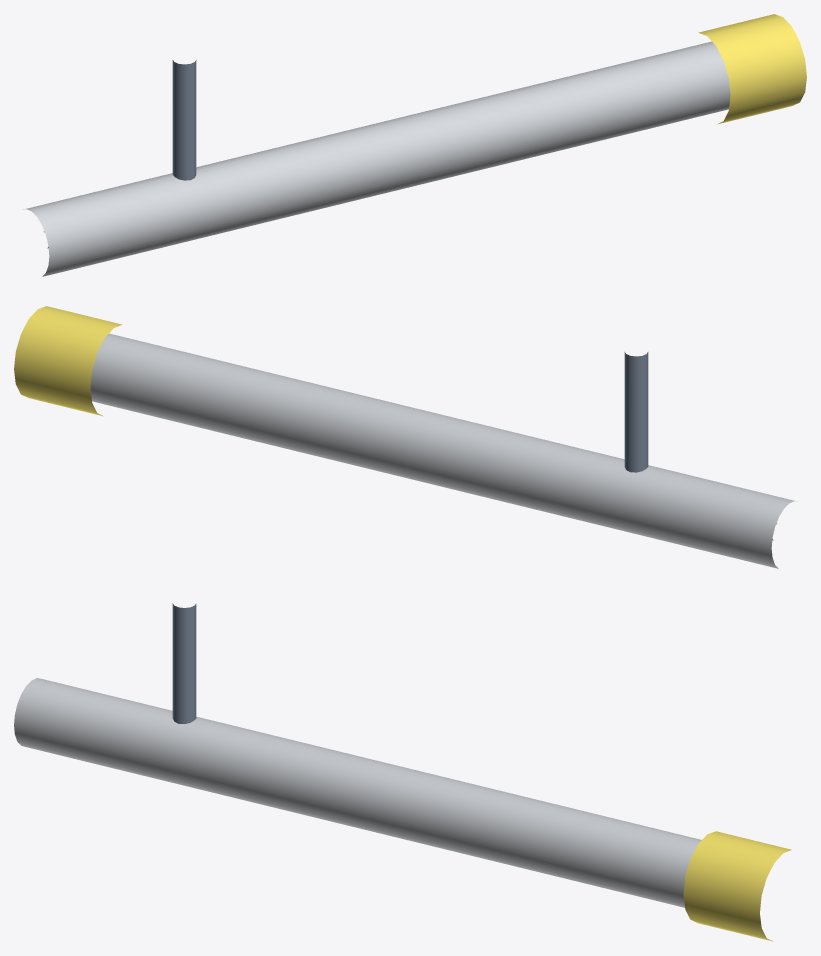
File: thermal_linear_expansion_coefficient.glb
3 views of the same model, one above another, from view 1: azimuth 30°, elevation 25°; view 2: azimuth 150°, elevation 25°; view 3: azimuth 330°, elevation 25° (orthographic).
Visible parts, largest first — view 1: PullingersApparatusSteamJacket, SpherometerExpansionMicrometerHead, SteamInletBoilerConnectionPipe; view 2: PullingersApparatusSteamJacket, SpherometerExpansionMicrometerHead, SteamInletBoilerConnectionPipe; view 3: PullingersApparatusSteamJacket, SpherometerExpansionMicrometerHead, SteamInletBoilerConnectionPipe.
Boxes of the visible parts, <box> form: PullingersApparatusSteamJacket: <box>23,41,730,276</box>; SpherometerExpansionMicrometerHead: <box>698,14,806,124</box>; SteamInletBoilerConnectionPipe: <box>172,60,196,180</box>; PullingersApparatusSteamJacket: <box>90,333,797,568</box>; SpherometerExpansionMicrometerHead: <box>14,306,122,416</box>; SteamInletBoilerConnectionPipe: <box>624,352,648,472</box>; PullingersApparatusSteamJacket: <box>14,678,701,907</box>; SpherometerExpansionMicrometerHead: <box>683,831,791,941</box>; SteamInletBoilerConnectionPipe: <box>172,603,196,723</box>.
Bounding box in the file's own units: 1.47 × 0.355 × 0.16.
